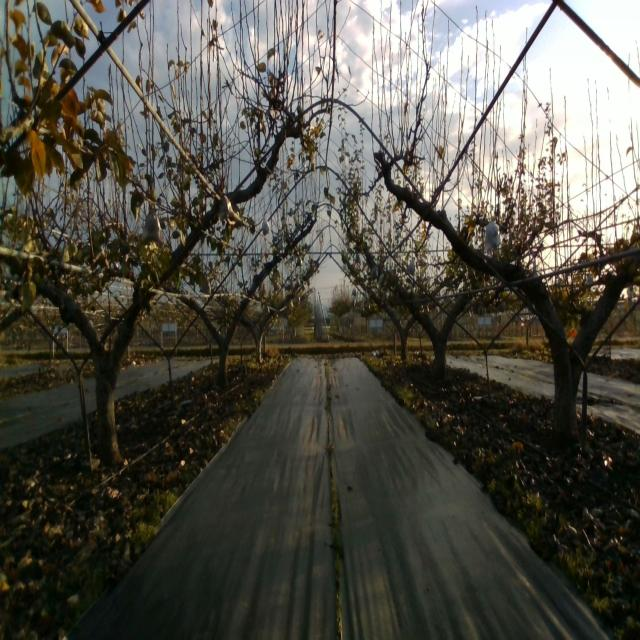pearbags: (141, 204, 164, 246), (484, 218, 502, 252), (219, 193, 234, 222)
